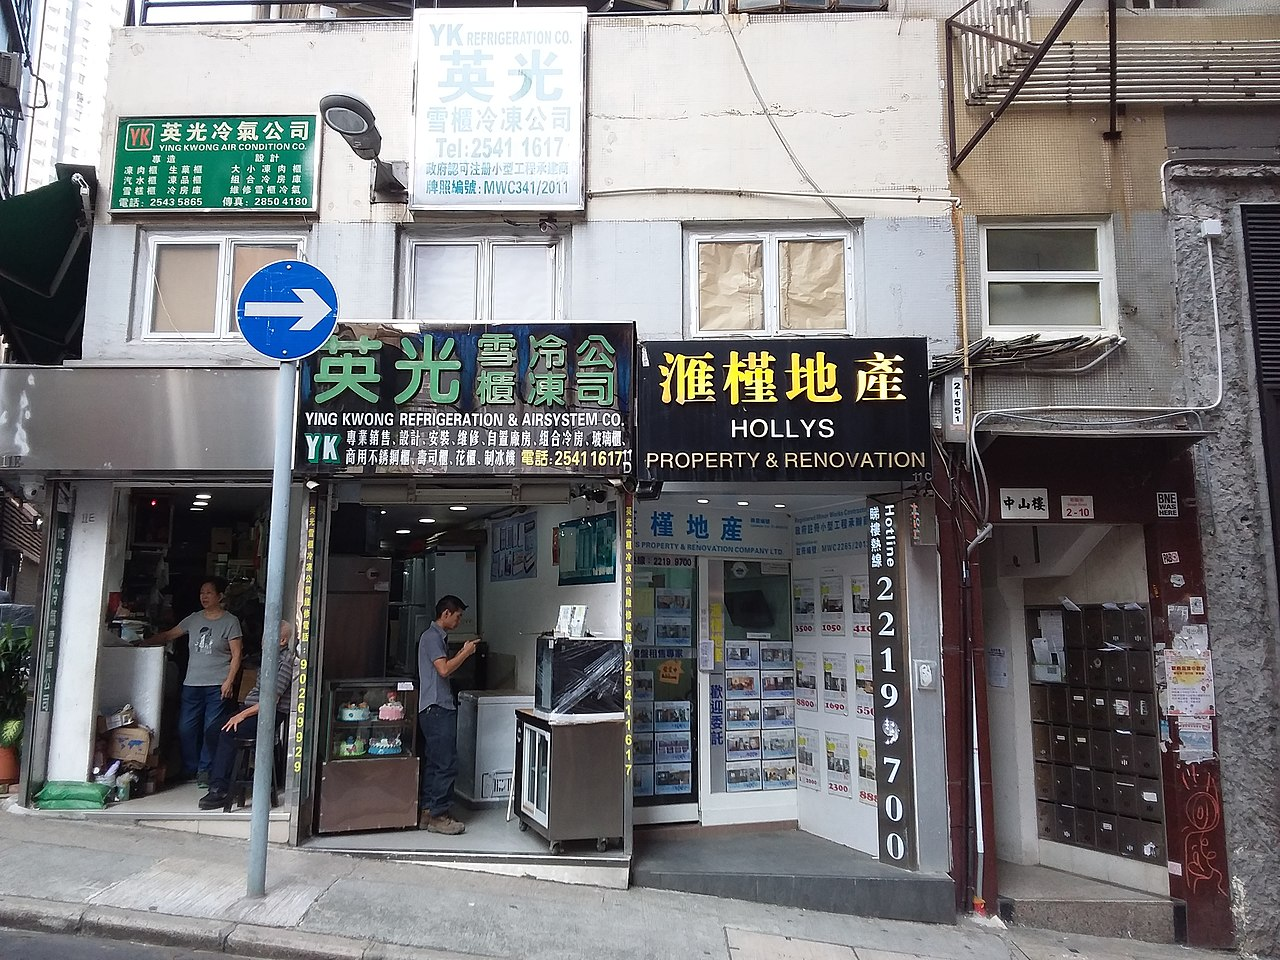Turn Right: (239, 262, 335, 363)
